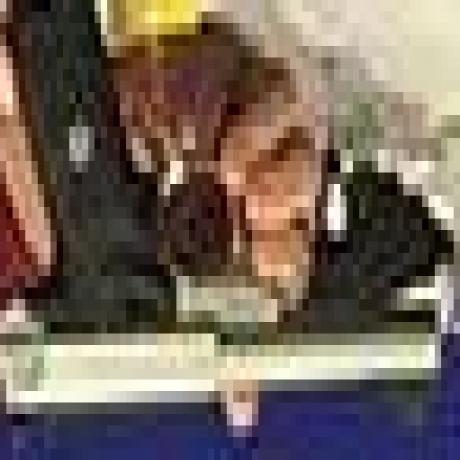weapon: (0, 35, 445, 390)
